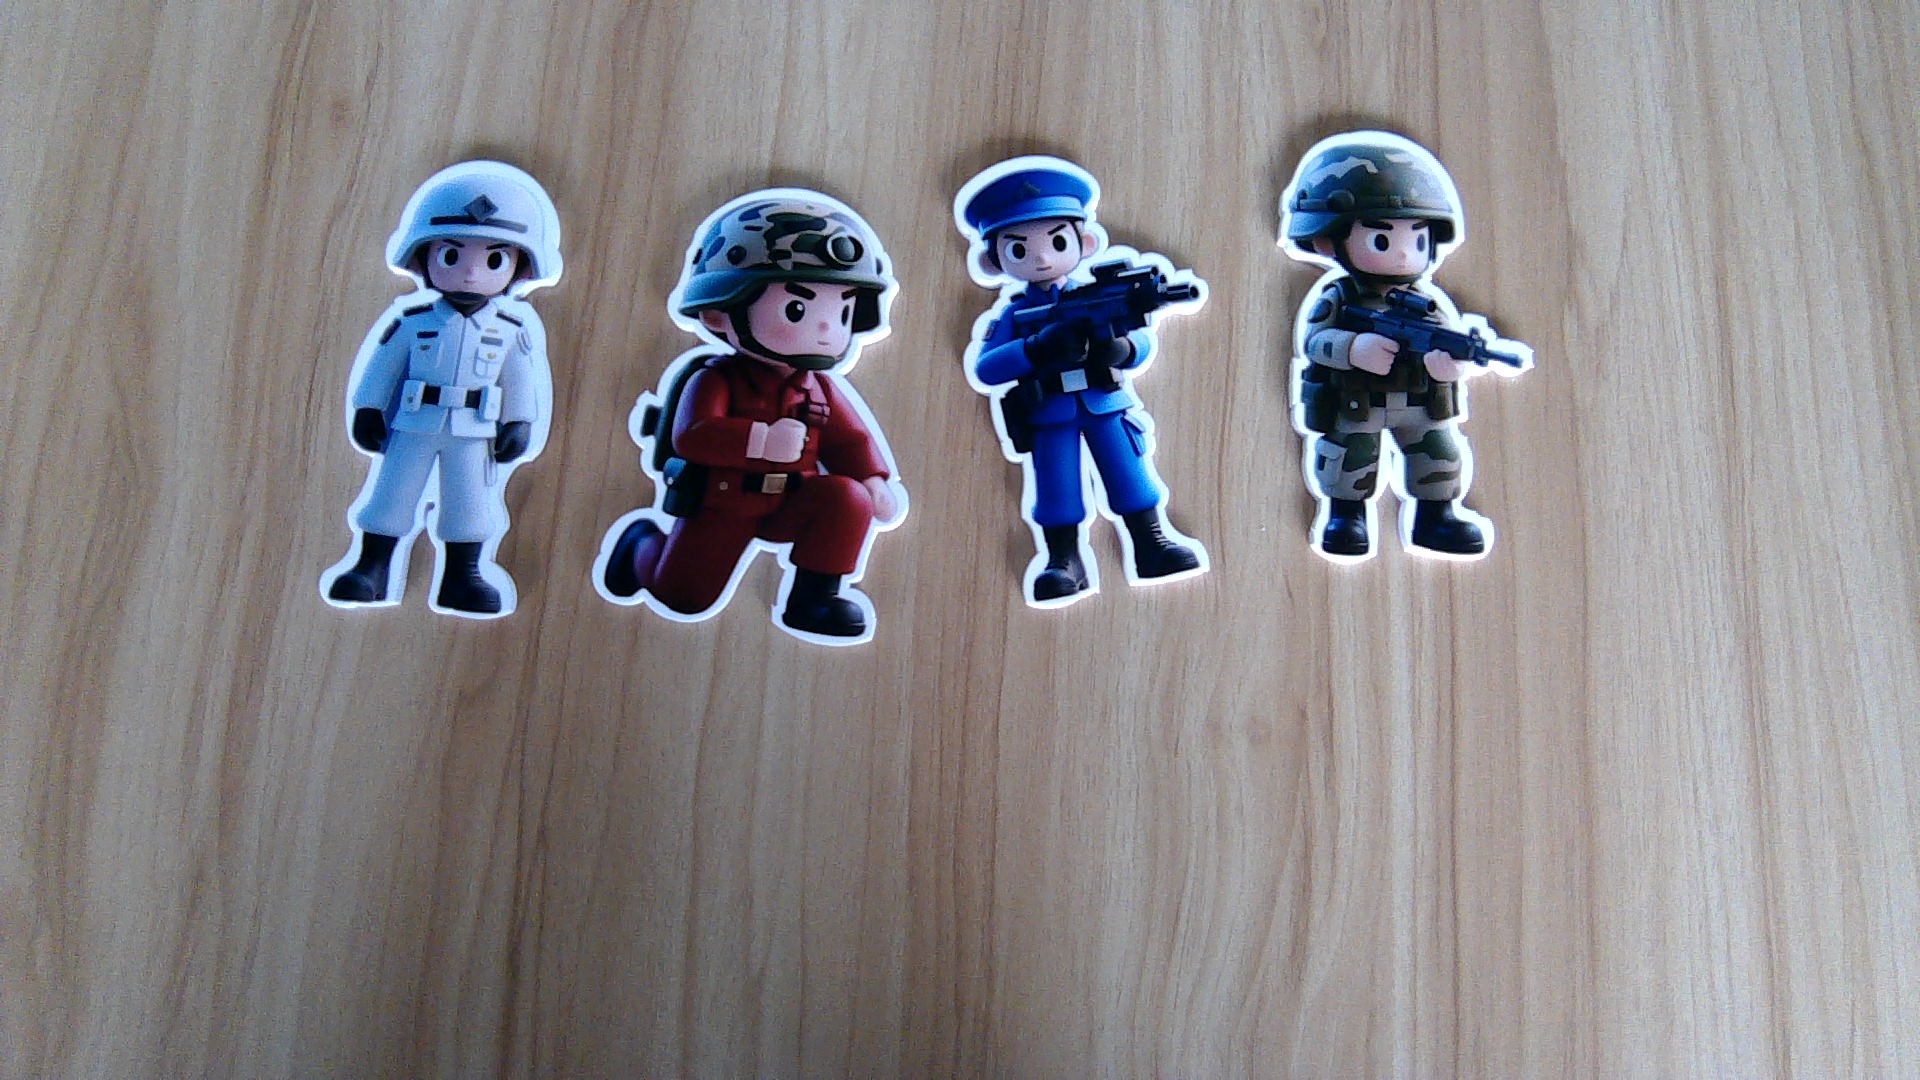人质: (316, 301, 554, 621)
友军: (1286, 282, 1538, 574)
敌人1: (587, 363, 914, 642)
敌人2: (963, 282, 1211, 609)
